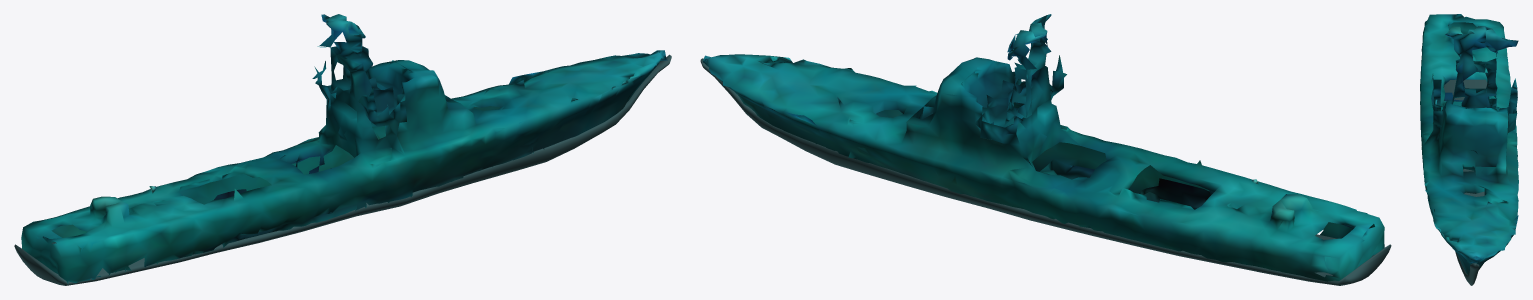
File: far.glb
The picture shows the model from 3 angles, left to right: view 1: azimuth 30°, elevation 25°; view 2: azimuth 150°, elevation 25°; view 3: azimuth 270°, elevation 25°; orthographic projection. The views are drawn at different scales.
Visible parts, largest first — view 1: satil far; view 2: satil far; view 3: satil far.
Part boxes in pixels (x1,y1,x2,y2): satil far: [14, 14, 671, 285]; satil far: [700, 14, 1391, 285]; satil far: [1420, 14, 1518, 285].
Bounding box in the file's own units: 44.6 × 12.51 × 6.94.
